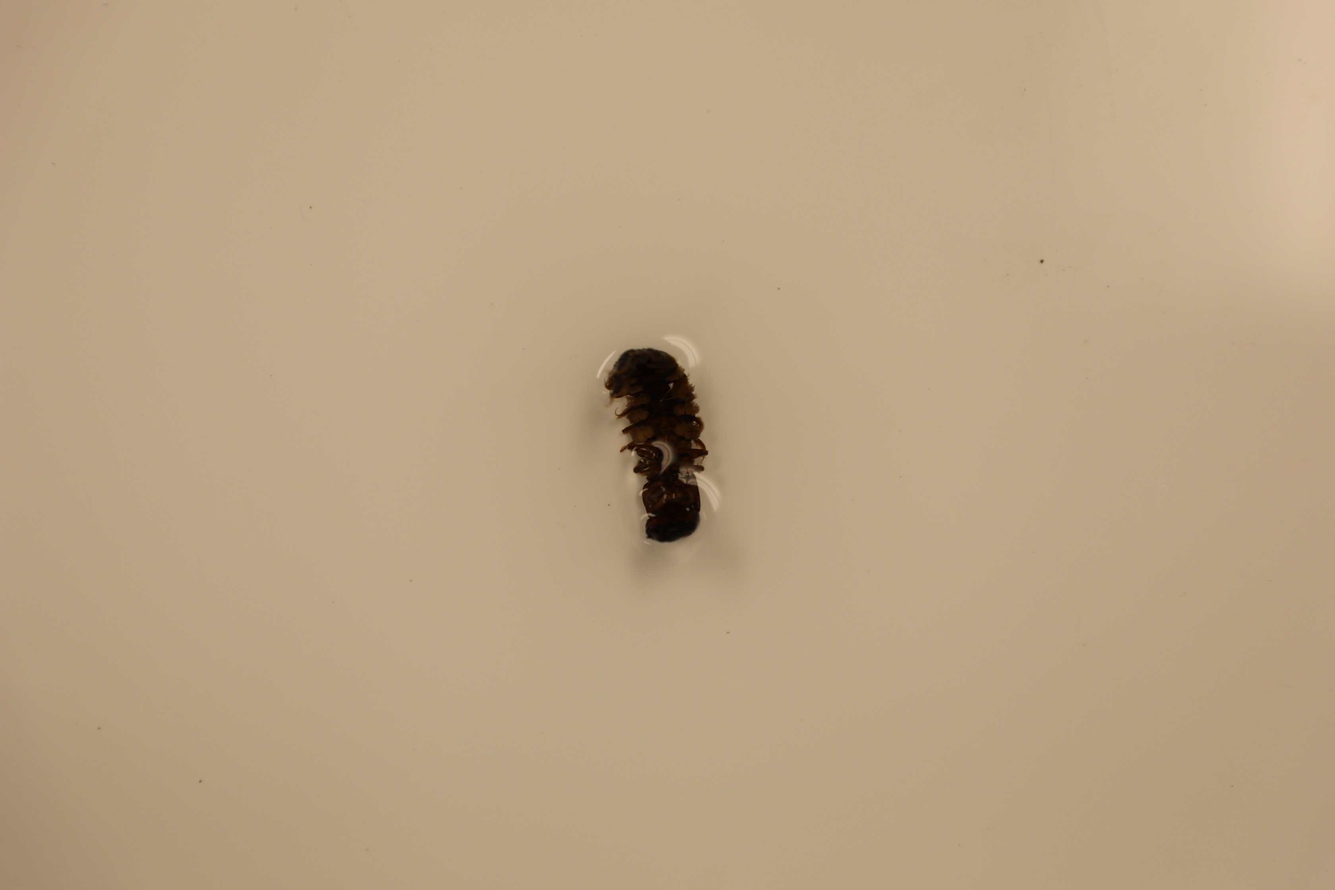Other: (607, 335, 704, 543)
